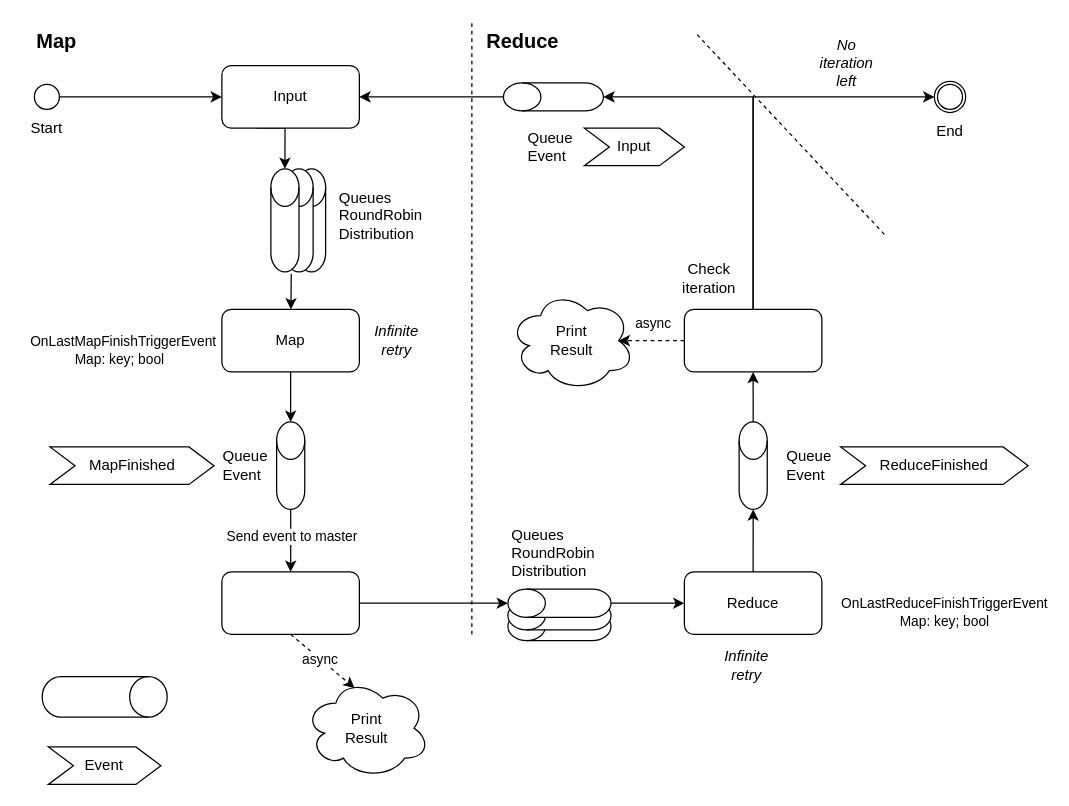
The diagram is 1069 pixels wide and 806 high, and some of its shapes have lost their labels. The centre of each missing label's shape, as x and y in pixels:
Queue: the point at 104,696
Result: the point at 752,340
Shuffle: the point at 290,602
